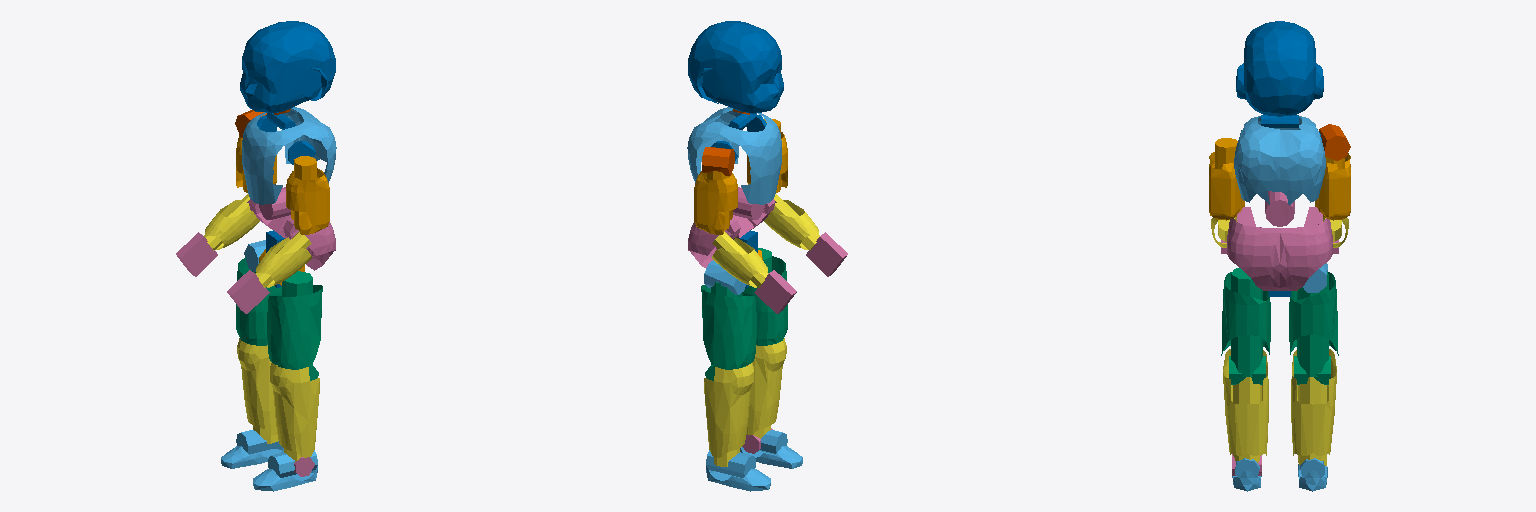
--- Render facts (derived) ---
3 views of the same robot in one strip: view 1: azimuth 30°, elevation 25°; view 2: azimuth 150°, elevation 25°; view 3: azimuth 270°, elevation 25° (orthographic).
Model iCub with 56 links and 55 joints (32 revolute, 23 fixed), rooted at base_link, posed joints at zero except 2 at the middle of their limits (l_elbow = 0.973, r_elbow = 0.973).
Visible links, largest first — view 1: head, l_upper_leg, chest, l_lower_leg, l_upper_arm, r_lower_leg, torso_1, l_forearm, r_forearm, l_foot, r_upper_leg, r_foot (+2 smaller); view 2: head, chest, r_upper_leg, r_lower_leg, l_lower_leg, r_upper_arm, torso_1, r_forearm, l_forearm, r_foot, l_upper_leg, l_foot (+4 smaller); view 3: torso_1, head, chest, l_upper_leg, r_upper_leg, r_lower_leg, l_lower_leg, l_upper_arm, r_upper_arm, r_foot, r_shoulder_2, l_foot.
Boxes of the visible links, x1,y1,x2,y2 form: head: (240,21,335,112); l_upper_leg: (267,271,322,380); chest: (242,107,336,204); l_lower_leg: (270,363,319,461); l_upper_arm: (286,156,329,234); r_lower_leg: (237,338,278,443); torso_1: (247,187,335,270); l_forearm: (255,231,311,287); r_forearm: (204,194,259,250); l_foot: (253,450,317,491); r_upper_leg: (236,258,281,345); r_foot: (221,430,283,468); head: (688,21,783,113); chest: (687,107,781,204); r_upper_leg: (701,282,756,380); r_lower_leg: (704,363,753,466); l_lower_leg: (746,338,786,438); r_upper_arm: (694,171,737,234); torso_1: (688,187,776,267); r_forearm: (712,231,768,287); l_forearm: (764,194,819,250); r_foot: (706,450,770,491); l_upper_leg: (744,248,787,345); l_foot: (740,430,802,468); torso_1: (1227,191,1332,290); head: (1236,21,1323,116); chest: (1234,116,1325,204); l_upper_leg: (1221,268,1270,384); r_upper_leg: (1289,272,1338,384); r_lower_leg: (1291,349,1336,465); l_lower_leg: (1223,349,1268,462); l_upper_arm: (1209,138,1244,220); r_upper_arm: (1315,153,1350,220); r_foot: (1298,458,1327,491); r_shoulder_2: (1319,124,1350,160); l_foot: (1232,458,1261,491).
Bounding box of the posed robot: 0.3134 × 0.2951 × 1.04 m (x, y, z).
Meshes: 28 distinct files referenced, 25 mesh visuals loaded (25 binary STL); not drawn: 3 (reference not matched to a file when rendering).

The robot description file, URDF, robot "iCub":
<robot name="iCub">
    <link name="base_link" />
    <link name="chest">
        <inertial>
            <mass value="4.81" />
            <origin xyz="0.00222898 0.075 -1.18362e-17" rpy="0 -0 0" />
            <inertia ixx="0.07472" ixy="-3.6e-06" ixz="-4.705e-05" iyy="0.08145" iyz="0.004567" izz="0.01306" />
        </inertial>
        <visual>
            <origin xyz="-0.0055 -6.93889e-18 -3.55271e-18" rpy="0 -1.5708 1.5708" />
            <geometry>
                <mesh filename="package://meshes/icub_simple_collision_chest.stl" scale="1 1 1" />
            </geometry>
            <!-- <material name="material.metal">
                <texture />
                <color rgba="0 0 0 1" />
            </material> -->
        </visual>
        <collision>
            <origin xyz="-0.0055 -6.93889e-18 -3.55271e-18" rpy="0 -1.5708 1.5708" />
            <geometry>
                <mesh filename="package://meshes/icub_simple_collision_chest.stl" scale="1 1 1" />
            </geometry>
        </collision>
    </link>
    <link name="chest_skin_frame">
        <inertial>
            <mass value="0" />
            <origin xyz="0 0 0" rpy="0 -0 0" />
            <inertia ixx="0" ixy="0" ixz="0" iyy="0" iyz="0" izz="0" />
        </inertial>
    </link>
    <link name="codyco_balancing_world">
        <inertial>
            <mass value="0" />
            <origin xyz="0 0 0" rpy="0 -0 0" />
            <inertia ixx="0" ixy="0" ixz="0" iyy="0" iyz="0" izz="0" />
        </inertial>
    </link>
    <link name="head">
        <inertial>
            <mass value="1.33687" />
            <origin xyz="0.0185 -0.1108 6.78454e-18" rpy="0 -0 0" />
            <inertia ixx="0" ixy="0" ixz="2.40741e-35" iyy="0" iyz="0" izz="0" />
        </inertial>
        <visual>
            <origin xyz="0.0045 -0.0235 9.42472e-13" rpy="0 1.5708 -1.5708" />
            <geometry>
                <mesh filename="package://meshes/icub_simple_collision_head.stl" scale="1 1 1" />
            </geometry>
            <!-- <material name="material.metal">
                <texture />
                <color rgba="0 0 0 1" />
            </material> -->
        </visual>
        <collision>
            <origin xyz="0.0045 -0.0235 9.42472e-13" rpy="0 1.5708 -1.5708" />
            <geometry>
                <mesh filename="package://meshes/icub_simple_collision_head.stl" scale="1 1 1" />
            </geometry>
        </collision>
    </link>
    <link name="imu_frame">
        <inertial>
            <mass value="0" />
            <origin xyz="0 0 0" rpy="0 -0 0" />
            <inertia ixx="0" ixy="0" ixz="0" iyy="0" iyz="0" izz="0" />
        </inertial>
    </link>
    <link name="l_ankle_1">
        <inertial>
            <mass value="0.746" />
            <origin xyz="-0.0054 0.00163 0.0172" rpy="0 -0 0" />
            <inertia ixx="0.00063323" ixy="-7.081e-06" ixz="4.1421e-05" iyy="0.00068776" iyz="2.0817e-05" izz="0.000313897" />
        </inertial>
        <visual>
            <origin xyz="1.11022e-16 -5.54343e-12 4.45647e-12" rpy="1.5708 1.53106e-11 1.53105e-11" />
            <geometry>
                <mesh filename="package://meshes/icub_simple_collision_l_ankle_1.stl" scale="1 1 1" />
            </geometry>
            <!-- <material name="material.metal">
                <texture />
                <color rgba="0 0 0 1" />
            </material> -->
        </visual>
        <collision>
            <origin xyz="1.11022e-16 -5.54343e-12 4.45647e-12" rpy="1.5708 1.53106e-11 1.53105e-11" />
            <geometry>
                <mesh filename="package://meshes/icub_simple_collision_l_ankle_1.stl" scale="1 1 1" />
            </geometry>
        </collision>
    </link>
    <link name="l_ankle_2">
        <inertial>
            <mass value="0.2675" />
            <origin xyz="0.017 0 0.042" rpy="0 -0 0" />
            <inertia ixx="0" ixy="0" ixz="0" iyy="0" iyz="0" izz="0" />
        </inertial>
    </link>
    <link name="l_elbow_1">
        <inertial>
            <mass value="0.074" />
            <origin xyz="-0.0013 0.00371 -0.00105" rpy="0 -0 0" />
            <inertia ixx="2.8389e-05" ixy="-5.15e-07" ixz="-4.08e-07" iyy="9.244e-06" iyz="-3.71e-07" izz="2.9968e-05" />
        </inertial>
    </link>
    <link name="l_foot">
        <inertial>
            <mass value="0.5935" />
            <origin xyz="0.007069 -0.000613931 -0.0334154" rpy="0 -0 0" />
            <inertia ixx="0.00193893" ixy="-1.3505e-05" ixz="0.0001823" iyy="0.0030191" iyz="-3.30533e-06" izz="0.00162801" />
        </inertial>
        <visual>
            <origin xyz="-0.017 -5.54343e-12 -0.042" rpy="0 1.5708 -2.0414e-11" />
            <geometry>
                <mesh filename="package://meshes/icub_simple_collision_l_foot.stl" scale="1 1 1" />
            </geometry>
            <!-- <material name="material.metal">
                <texture />
                <color rgba="0 0 0 1" />
            </material> -->
        </visual>
        <collision>
            <origin xyz="-0.017 -5.54343e-12 -0.042" rpy="0 1.5708 -2.0414e-11" />
            <geometry>
                <mesh filename="package://meshes/icub_simple_collision_l_foot.stl" scale="1 1 1" />
            </geometry>
        </collision>
    </link>
    <link name="l_foot_dh_frame">
        <inertial>
            <mass value="0" />
            <origin xyz="0 0 0" rpy="0 -0 0" />
            <inertia ixx="0" ixy="0" ixz="0" iyy="0" iyz="0" izz="0" />
        </inertial>
    </link>
    <link name="l_forearm">
        <inertial>
            <mass value="0.525" />
            <origin xyz="0.000347 0.066 0.00476" rpy="0 -0 0" />
            <inertia ixx="0.000765393" ixy="4.337e-06" ixz="2.39e-07" iyy="0.000164578" iyz="1.9381e-05" izz="0.00069806" />
        </inertial>
        <visual>
            <origin xyz="-0.000143922 -1.25974e-12 0.0204334" rpy="0 1.5708 1.5708" />
            <geometry>
                <mesh filename="package://meshes/icub_simple_collision_l_forearm.stl" scale="1 1 1" />
            </geometry>
            <!-- <material name="material.metal">
                <texture />
                <color rgba="0 0 0 1" />
            </material> -->
        </visual>
        <collision>
            <origin xyz="-0.000143922 -1.25974e-12 0.0204334" rpy="0 1.5708 1.5708" />
            <geometry>
                <mesh filename="package://meshes/icub_simple_collision_l_forearm.stl" scale="1 1 1" />
            </geometry>
        </collision>
    </link>
    <link name="l_forearm_dh_frame">
        <inertial>
            <mass value="0" />
            <origin xyz="0 0 0" rpy="0 -0 0" />
            <inertia ixx="0" ixy="0" ixz="0" iyy="0" iyz="0" izz="0" />
        </inertial>
    </link>
    <link name="l_gripper">
        <inertial>
            <mass value="0" />
            <origin xyz="0 0 0" rpy="0 -0 0" />
            <inertia ixx="0" ixy="0" ixz="0" iyy="0" iyz="0" izz="0" />
        </inertial>
    </link>
    <link name="l_hand">
        <inertial>
            <mass value="0.213" />
            <origin xyz="0.07023 -0.00805 -0.007" rpy="0 -0 0" />
            <inertia ixx="0.000157143" ixy="1.278e-05" ixz="4.823e-06" iyy="0.000247995" iyz="-1.8188e-05" izz="0.000380535" />
        </inertial>
        <visual>
            <origin xyz="-1.25973e-12 0.0204334 -0.000143922" rpy="5.10271e-12 -2.64186e-12 1.49622e-11" />
            <geometry>
                <mesh filename="package://meshes/icub_simple_collision_l_hand.stl" scale="1 1 1" />
            </geometry>
            <!-- <material name="material.metal">
                <texture />
                <color rgba="0 0 0 1" />
            </material> -->
        </visual>
        <collision>
            <origin xyz="-1.25973e-12 0.0204334 -0.000143922" rpy="5.10271e-12 -2.64186e-12 1.49622e-11" />
            <geometry>
                <mesh filename="package://meshes/icub_simple_collision_l_hand.stl" scale="1 1 1" />
            </geometry>
        </collision>
    </link>
    <link name="l_hand_dh_frame">
        <inertial>
            <mass value="0" />
            <origin xyz="0 0 0" rpy="0 -0 0" />
            <inertia ixx="0" ixy="0" ixz="0" iyy="0" iyz="0" izz="0" />
        </inertial>
    </link>
    <link name="l_hip_1">
        <inertial>
            <mass value="0.754" />
            <origin xyz="0 -0.0782 0" rpy="0 -0 0" />
            <inertia ixx="0.000471076" ixy="2.059e-06" ixz="1.451e-06" iyy="0.000346478" iyz="1.545e-06" izz="0.000510315" />
        </inertial>
        <visual>
            <origin xyz="0 0 0" rpy="0 1.5708 -1.5708" />
            <geometry>
                <mesh filename="package://meshes/icub_simple_collision_l_hip_1.stl" scale="1 1 1" />
            </geometry>
            <!-- <material name="material.metal">
                <texture />
                <color rgba="0 0 0 1" />
            </material> -->
        </visual>
        <collision>
            <origin xyz="0 0 0" rpy="0 1.5708 -1.5708" />
            <geometry>
                <mesh filename="package://meshes/icub_simple_collision_l_hip_1.stl" scale="1 1 1" />
            </geometry>
        </collision>
    </link>
    <link name="l_hip_2">
        <inertial>
            <mass value="0.526" />
            <origin xyz="0 0 0.03045" rpy="0 -0 0" />
            <inertia ixx="0.000561583" ixy="-7.4e-08" ixz="1.0835e-05" iyy="0.000738049" iyz="-6.2e-08" izz="0.000294119" />
        </inertial>
        <visual>
            <origin xyz="0 0 0" rpy="0 -1.5708 3.14159" />
            <geometry>
                <mesh filename="package://meshes/icub_simple_collision_l_hip_2.stl" scale="1 1 1" />
            </geometry>
            <!-- <material name="material.metal">
                <texture />
                <color rgba="0 0 0 1" />
            </material> -->
        </visual>
        <collision>
            <origin xyz="0 0 0" rpy="0 -1.5708 3.14159" />
            <geometry>
                <mesh filename="package://meshes/icub_simple_collision_l_hip_2.stl" scale="1 1 1" />
            </geometry>
        </collision>
    </link>
    <link name="l_hip_3">
        <inertial>
            <mass value="0" />
            <origin xyz="0 0 0" rpy="0 -0 0" />
            <inertia ixx="0" ixy="0" ixz="0" iyy="0" iyz="0" izz="0" />
        </inertial>
    </link>
    <link name="l_lower_leg">
        <inertial>
            <mass value="1.264" />
            <origin xyz="-0.1071 0.00182 0.00211" rpy="0 -0 0" />
            <inertia ixx="0.00099895" ixy="-0.000185699" ixz="-6.3147e-05" iyy="0.00445054" iyz="7.86e-07" izz="0.00420766" />
        </inertial>
        <visual>
            <origin xyz="5.55112e-17 2.28232e-12 2.2823e-12" rpy="-3.14159 -2.33487e-16 1.5708" />
            <geometry>
                <mesh filename="package://meshes/icub_simple_collision_l_shank.stl" scale="1 1 1" />
            </geometry>
            <!-- <material name="material.metal">
                <texture />
                <color rgba="0 0 0 1" />
            </material> -->
        </visual>
        <collision>
            <origin xyz="5.55112e-17 2.28232e-12 2.2823e-12" rpy="-3.14159 -2.33487e-16 1.5708" />
            <geometry>
                <mesh filename="package://meshes/icub_simple_collision_l_shank.stl" scale="1 1 1" />
            </geometry>
        </collision>
    </link>
    <link name="l_shoulder_1">
        <inertial>
            <mass value="0.189" />
            <origin xyz="-5e-06 0.0187 -0.00119" rpy="0 -0 0" />
            <inertia ixx="5.4421e-05" ixy="9e-09" ixz="0" iyy="9.331e-06" iyz="-1.7e-08" izz="5.4862e-05" />
        </inertial>
        <visual>
            <origin xyz="3.08642e-14 0.109285 -0.00521101" rpy="0 1.5708 -1.5708" />
            <geometry>
                <mesh filename="package://meshes/icub_simple_collision_l_shoulder_1.stl" scale="1 1 1" />
            </geometry>
            <!-- <material name="material.metal">
                <texture />
                <color rgba="0 0 0 1" />
            </material> -->
        </visual>
        <collision>
            <origin xyz="3.08642e-14 0.109285 -0.00521101" rpy="0 1.5708 -1.5708" />
            <geometry>
                <mesh filename="package://meshes/icub_simple_collision_l_shoulder_1.stl" scale="1 1 1" />
            </geometry>
        </collision>
    </link>
    <link name="l_shoulder_2">
        <inertial>
            <mass value="0.179" />
            <origin xyz="9.4e-05 -0.00627 0.0166" rpy="0 -0 0" />
            <inertia ixx="0.0001372" ixy="4.66e-07" ixz="3.65e-07" iyy="8.2927e-05" iyz="-2.0524e-05" izz="9.9274e-05" />
        </inertial>
        <visual>
            <origin xyz="-0.00154529 -0.00521101 -1.11181e-12" rpy="0 1.5708 1.5708" />
            <geometry>
                <mesh filename="package://meshes/icub_simple_collision_l_shoulder_2.stl" scale="1 1 1" />
            </geometry>
            <!-- <material name="material.metal">
                <texture />
                <color rgba="0 0 0 1" />
            </material> -->
        </visual>
        <collision>
            <origin xyz="-0.00154529 -0.00521101 -1.11181e-12" rpy="0 1.5708 1.5708" />
            <geometry>
                <mesh filename="package://meshes/icub_simple_collision_l_shoulder_2.stl" scale="1 1 1" />
            </geometry>
        </collision>
    </link>
    <link name="l_shoulder_3">
        <inertial>
            <mass value="0.156157" />
            <origin xyz="0.00559398 9.77357e-05 0.0501346" rpy="0 -0 0" />
            <inertia ixx="4.84118e-05" ixy="-5.662e-08" ixz="-4.3618e-06" iyy="5.79067e-05" iyz="-7.42844e-07" izz="6.7103e-05" />
        </inertial>
    </link>
    <link name="l_sole">
        <inertial>
            <mass value="0" />
            <origin xyz="0 0 0" rpy="0 -0 0" />
            <inertia ixx="0" ixy="0" ixz="0" iyy="0" iyz="0" izz="0" />
        </inertial>
    </link>
    <link name="l_upper_arm">
        <inertial>
            <mass value="0.727843" />
            <origin xyz="-0.000156 -9.87e-05 0.0298" rpy="0 -0 0" />
            <inertia ixx="0.000408" ixy="-1.08e-06" ixz="-2.29e-06" iyy="0.00038" iyz="3.57e-06" izz="0.00026" />
        </inertial>
        <visual>
            <origin xyz="-0.0204334 0.000143922 -0.068" rpy="1.15274e-11 4.92958e-12 -1.309" />
            <geometry>
                <mesh filename="package://meshes/icub_simple_collision_l_arm.stl" scale="1 1 1" />
            </geometry>
            <!-- <material name="material.metal">
                <texture />
                <color rgba="0 0 0 1" />
            </material> -->
        </visual>
        <collision>
            <origin xyz="-0.0204334 0.000143922 -0.068" rpy="1.15274e-11 4.92958e-12 -1.309" />
            <geometry>
                <mesh filename="package://meshes/icub_simple_collision_l_arm.stl" scale="1 1 1" />
            </geometry>
        </collision>
    </link>
    <link name="l_upper_arm_dh_frame">
        <inertial>
            <mass value="0" />
            <origin xyz="0 0 0" rpy="0 -0 0" />
            <inertia ixx="0" ixy="0" ixz="0" iyy="0" iyz="0" izz="0" />
        </inertial>
    </link>
    <link name="l_upper_leg">
        <inertial>
            <mass value="2.175" />
            <origin xyz="0.00144 -0.15943 -0.00039" rpy="0 -0 0" />
            <inertia ixx="0.00759107" ixy="-6.726e-05" ixz="2.267e-06" iyy="0.00142302" iyz="3.63726e-05" izz="0.00755385" />
        </inertial>
        <visual>
            <origin xyz="0 0 0" rpy="0 1.5708 1.5708" />
            <geometry>
                <mesh filename="package://meshes/icub_simple_collision_l_thigh.stl" scale="1 1 1" />
            </geometry>
            <!-- <material name="material.metal">
                <texture />
                <color rgba="0 0 0 1" />
            </material> -->
        </visual>
        <collision>
            <origin xyz="0 0 0" rpy="0 1.5708 1.5708" />
            <geometry>
                <mesh filename="package://meshes/icub_simple_collision_l_thigh.stl" scale="1 1 1" />
            </geometry>
        </collision>
    </link>
    <link name="l_wrist_1">
        <inertial>
            <mass value="0" />
            <origin xyz="0 0 0" rpy="0 -0 0" />
            <inertia ixx="0" ixy="0" ixz="0" iyy="0" iyz="0" izz="0" />
        </inertial>
    </link>
    <link name="neck_1">
        <inertial>
            <mass value="0" />
            <origin xyz="0 0 0" rpy="0 -0 0" />
            <inertia ixx="0" ixy="0" ixz="0" iyy="0" iyz="0" izz="0" />
        </inertial>
        <visual>
            <origin xyz="-5.55112e-17 9.62889e-13 -0.0055" rpy="0 -1.5708 -1.5708" />
            <geometry>
                <mesh filename="package://meshes/icub_simple_collision_neck_1.stl" scale="1 1 1" />
            </geometry>
            <!-- <material name="material.metal">
                <texture />
                <color rgba="0 0 0 1" />
            </material> -->
        </visual>
        <collision>
            <origin xyz="-5.55112e-17 9.62889e-13 -0.0055" rpy="0 -1.5708 -1.5708" />
            <geometry>
                <mesh filename="package://meshes/icub_simple_collision_neck_1.stl" scale="1 1 1" />
            </geometry>
        </collision>
    </link>
    <link name="neck_2">
        <inertial>
            <mass value="0" />
            <origin xyz="0 0 0" rpy="0 -0 0" />
            <inertia ixx="0" ixy="0" ixz="0" iyy="0" iyz="0" izz="0" />
        </inertial>
        <visual>
            <origin xyz="-9.62885e-13 0.0055 0.0235" rpy="0 -1.5708 1.5708" />
            <geometry>
                <mesh filename="package://meshes/icub_simple_collision_neck_2.stl" scale="1 1 1" />
            </geometry>
            <!-- <material name="material.metal">
                <texture />
                <color rgba="0 0 0 1" />
            </material> -->
        </visual>
        <collision>
            <origin xyz="-9.62885e-13 0.0055 0.0235" rpy="0 -1.5708 1.5708" />
            <geometry>
                <mesh filename="package://meshes/icub_simple_collision_neck_2.stl" scale="1 1 1" />
            </geometry>
        </collision>
    </link>
    <link name="r_ankle_1">
        <inertial>
            <mass value="0.746" />
            <origin xyz="-0.0054 0.00163 -0.0172" rpy="0 -0 0" />
            <inertia ixx="2.71051e-20" ixy="-1.69407e-21" ixz="1.35525e-20" iyy="5.42101e-20" iyz="3.38813e-21" izz="1.35525e-20" />
        </inertial>
        <visual>
            <origin xyz="1.11022e-16 -1.08717e-12 -4.45647e-12" rpy="-1.5708 -1.53106e-11 5.10376e-12" />
            <geometry>
                <mesh filename="package://meshes/icub_simple_collision_r_ankle_1.stl" scale="1 1 1" />
            </geometry>
            <!-- <material name="material.metal">
                <texture />
                <color rgba="0 0 0 1" />
            </material> -->
        </visual>
        <collision>
            <origin xyz="1.11022e-16 -1.08717e-12 -4.45647e-12" rpy="-1.5708 -1.53106e-11 5.10376e-12" />
            <geometry>
                <mesh filename="package://meshes/icub_simple_collision_r_ankle_1.stl" scale="1 1 1" />
            </geometry>
        </collision>
    </link>
    <link name="r_ankle_2">
        <inertial>
            <mass value="0.2675" />
            <origin xyz="0.017 0 0.042" rpy="0 -0 0" />
            <inertia ixx="0" ixy="0" ixz="0" iyy="0" iyz="0" izz="0" />
        </inertial>
    </link>
    <link name="r_elbow_1">
        <inertial>
            <mass value="0.074" />
            <origin xyz="0.0013 -0.00371 0.00105" rpy="0 -0 0" />
            <inertia ixx="2.84e-05" ixy="-5.02e-07" ixz="-3.99e-07" iyy="9.24e-06" iyz="-3.71e-07" izz="2.99e-05" />
        </inertial>
    </link>
    <link name="r_foot">
        <inertial>
            <mass value="0.5935" />
            <origin xyz="0.007069 0.000613931 -0.0334154" rpy="0 -0 0" />
            <inertia ixx="0.00193893" ixy="1.3505e-05" ixz="0.0001823" iyy="0.0030191" iyz="3.30551e-06" izz="0.00162801" />
        </inertial>
        <visual>
            <origin xyz="-0.017 1.08717e-12 -0.042" rpy="0 1.5708 3.14159" />
            <geometry>
                <mesh filename="package://meshes/icub_simple_collision_r_foot.stl" scale="1 1 1" />
            </geometry>
            <!-- <material name="material.metal">
                <texture />
                <color rgba="0 0 0 1" />
            </material> -->
        </visual>
        <collision>
            <origin xyz="-0.017 1.08717e-12 -0.042" rpy="0 1.5708 3.14159" />
            <geometry>
                <mesh filename="package://meshes/icub_simple_collision_r_foot.stl" scale="1 1 1" />
            </geometry>
        </collision>
    </link>
    <link name="r_foot_dh_frame">
        <inertial>
            <mass value="0" />
            <origin xyz="0 0 0" rpy="0 -0 0" />
            <inertia ixx="0" ixy="0" ixz="0" iyy="0" iyz="0" izz="0" />
        </inertial>
    </link>
    <link name="r_forearm">
        <inertial>
            <mass value="0.525" />
            <origin xyz="-0.000347 -0.066 -0.00476" rpy="0 -0 0" />
            <inertia ixx="0.000766" ixy="5.66e-06" ixz="1.4e-06" iyy="0.000164" iyz="1.82e-05" izz="0.000699" />
        </inertial>
        <visual>
            <origin xyz="0.000143922 -1.07214e-12 -0.0204334" rpy="0 1.5708 1.5708" />
            <geometry>
                <mesh filename="package://meshes/icub_simple_collision_r_forearm.stl" scale="1 1 1" />
            </geometry>
            <!-- <material name="material.metal">
                <texture />
                <color rgba="0 0 0 1" />
            </material> -->
        </visual>
        <collision>
            <origin xyz="0.000143922 -1.07214e-12 -0.0204334" rpy="0 1.5708 1.5708" />
            <geometry>
                <mesh filename="package://meshes/icub_simple_collision_r_forearm.stl" scale="1 1 1" />
            </geometry>
        </collision>
    </link>
    <link name="r_forearm_dh_frame">
        <inertial>
            <mass value="0" />
            <origin xyz="0 0 0" rpy="0 -0 0" />
            <inertia ixx="0" ixy="0" ixz="0" iyy="0" iyz="0" izz="0" />
        </inertial>
    </link>
    <link name="r_gripper">
        <inertial>
            <mass value="0" />
            <origin xyz="0 0 0" rpy="0 -0 0" />
            <inertia ixx="0" ixy="0" ixz="0" iyy="0" iyz="0" izz="0" />
        </inertial>
    </link>
    <link name="r_hand">
        <inertial>
            <mass value="0.213" />
            <origin xyz="0.07023 -0.00805 0.007" rpy="0 -0 0" />
            <inertia ixx="0.000154" ixy="1.26e-05" ixz="-6.08e-06" iyy="0.00025" iyz="1.76e-05" izz="0.000378" />
        </inertial>
        <visual>
            <origin xyz="1.0721e-12 0.0204334 0.000143922" rpy="1.53098e-11 2.00656e-11 -3.14159" />
            <geometry>
                <mesh filename="package://meshes/icub_simple_collision_r_hand.stl" scale="1 1 1" />
            </geometry>
            <!-- <material name="material.metal">
                <texture />
                <color rgba="0 0 0 1" />
            </material> -->
        </visual>
        <collision>
            <origin xyz="1.0721e-12 0.0204334 0.000143922" rpy="1.53098e-11 2.00656e-11 -3.14159" />
            <geometry>
                <mesh filename="package://meshes/icub_simple_collision_r_hand.stl" scale="1 1 1" />
            </geometry>
        </collision>
    </link>
    <link name="r_hand_dh_frame">
        <inertial>
            <mass value="0" />
            <origin xyz="0 0 0" rpy="0 -0 0" />
            <inertia ixx="0" ixy="0" ixz="0" iyy="0" iyz="0" izz="0" />
        </inertial>
    </link>
    <link name="r_hip_1">
        <inertial>
            <mass value="0.754" />
            <origin xyz="0 -0.0782 0" rpy="0 -0 0" />
            <inertia ixx="0" ixy="0" ixz="0" iyy="0" iyz="0" izz="0" />
        </inertial>
        <visual>
            <origin xyz="0 0 0" rpy="0 -1.5708 -1.5708" />
            <geometry>
                <mesh filename="package://meshes/icub_simple_collision_r_hip_1.stl" scale="1 1 1" />
            </geometry>
            <!-- <material name="material.metal">
                <texture />
                <color rgba="0 0 0 1" />
            </material> -->
        </visual>
        <collision>
            <origin xyz="0 0 0" rpy="0 -1.5708 -1.5708" />
            <geometry>
                <mesh filename="package://meshes/icub_simple_collision_r_hip_1.stl" scale="1 1 1" />
            </geometry>
        </collision>
    </link>
    <link name="r_hip_2">
        <inertial>
            <mass value="0.526" />
            <origin xyz="0 0 0.03045" rpy="0 -0 0" />
            <inertia ixx="-5.42101e-20" ixy="0" ixz="0" iyy="-5.42101e-20" iyz="0" izz="0" />
        </inertial>
        <visual>
            <origin xyz="0 0 0" rpy="0 -1.5708 1.02066e-11" />
            <geometry>
                <mesh filename="package://meshes/icub_simple_collision_r_hip_2.stl" scale="1 1 1" />
            </geometry>
            <!-- <material name="material.metal">
                <texture />
                <color rgba="0 0 0 1" />
            </material> -->
        </visual>
        <collision>
            <origin xyz="0 0 0" rpy="0 -1.5708 1.02066e-11" />
            <geometry>
                <mesh filename="package://meshes/icub_simple_collision_r_hip_2.stl" scale="1 1 1" />
            </geometry>
        </collision>
    </link>
    <link name="r_hip_3">
        <inertial>
            <mass value="0" />
            <origin xyz="0 0 0" rpy="0 -0 0" />
            <inertia ixx="0" ixy="0" ixz="0" iyy="0" iyz="0" izz="0" />
        </inertial>
    </link>
    <link name="r_lower_leg">
        <inertial>
            <mass value="1.264" />
            <origin xyz="-0.1071 0.00182 -0.00211" rpy="0 -0 0" />
            <inertia ixx="-6.2511e-19" ixy="5.42101e-20" ixz="-5.42101e-20" iyy="-1.73472e-18" iyz="8.47033e-22" izz="-1.73472e-18" />
        </inertial>
        <visual>
            <origin xyz="5.55112e-17 2.28232e-12 -8.32667e-17" rpy="3.14159 -1.14424e-17 1.5708" />
            <geometry>
                <mesh filename="package://meshes/icub_simple_collision_r_shank.stl" scale="1 1 1" />
            </geometry>
            <!-- <material name="material.metal">
                <texture />
                <color rgba="0 0 0 1" />
            </material> -->
        </visual>
        <collision>
            <origin xyz="5.55112e-17 2.28232e-12 -8.32667e-17" rpy="3.14159 -1.14424e-17 1.5708" />
            <geometry>
                <mesh filename="package://meshes/icub_simple_collision_r_shank.stl" scale="1 1 1" />
            </geometry>
        </collision>
    </link>
    <link name="r_shoulder_1">
        <inertial>
            <mass value="0.189" />
            <origin xyz="5e-06 0.0187 0.00119" rpy="0 -0 0" />
            <inertia ixx="0.000123" ixy="2.1e-08" ixz="-1e-09" iyy="2.44e-05" iyz="4.22e-06" izz="0.000113" />
        </inertial>
        <visual>
            <origin xyz="-3.08642e-14 0.109285 0.00521101" rpy="0 1.5708 1.5708" />
            <geometry>
                <mesh filename="package://meshes/icub_simple_collision_r_shoulder_1.stl" scale="1 1 1" />
            </geometry>
            <!-- <material name="material.metal">
                <texture />
                <color rgba="0 0 0 1" />
            </material> -->
        </visual>
        <collision>
            <origin xyz="-3.08642e-14 0.109285 0.00521101" rpy="0 1.5708 1.5708" />
            <geometry>
                <mesh filename="package://meshes/icub_simple_collision_r_shoulder_1.stl" scale="1 1 1" />
            </geometry>
        </collision>
    </link>
    <link name="r_shoulder_2">
        <inertial>
            <mass value="0.179" />
            <origin xyz="-9.4e-05 -0.00627 -0.0166" rpy="0 -0 0" />
            <inertia ixx="0.000137" ixy="-4.53e-07" ixz="2.03e-07" iyy="8.3e-05" iyz="2.07e-05" izz="9.93e-05" />
        </inertial>
        <visual>
            <origin xyz="-0.00154529 -0.00521101 -1.11181e-12" rpy="0 -1.5708 1.5708" />
            <geometry>
                <mesh filename="package://meshes/icub_simple_collision_r_shoulder_2.stl" scale="1 1 1" />
            </geometry>
            <!-- <material name="material.metal">
                <texture />
                <color rgba="0 0 0 1" />
            </material> -->
        </visual>
        <collision>
            <origin xyz="-0.00154529 -0.00521101 -1.11181e-12" rpy="0 -1.5708 1.5708" />
            <geometry>
                <mesh filename="package://meshes/icub_simple_collision_r_shoulder_2.stl" scale="1 1 1" />
            </geometry>
        </collision>
    </link>
    <link name="r_shoulder_3">
        <inertial>
            <mass value="0.155" />
            <origin xyz="0.00553932 -2.47652e-05 0.0493895" rpy="0 -0 0" />
            <inertia ixx="3.44122e-05" ixy="3.56977e-07" ixz="-3.95372e-06" iyy="4.33544e-05" iyz="-6.5128e-06" izz="6.49393e-05" />
        </inertial>
    </link>
    <link name="r_sole">
        <inertial>
            <mass value="0" />
            <origin xyz="0 0 0" rpy="0 -0 0" />
            <inertia ixx="0" ixy="0" ixz="0" iyy="0" iyz="0" izz="0" />
        </inertial>
    </link>
    <link name="r_upper_arm">
        <inertial>
            <mass value="0.729" />
            <origin xyz="-0.00015906 8.28733e-05 0.0298828" rpy="0 -0 0" />
            <inertia ixx="0.000408" ixy="-1.08e-06" ixz="-2.29e-06" iyy="0.00038" iyz="3.57e-06" izz="0.00026" />
        </inertial>
        <visual>
            <origin xyz="-0.0204334 -0.000143922 -0.068" rpy="-3.14159 -1.51363e-11 1.309" />
            <geometry>
                <mesh filename="package://meshes/icub_simple_collision_r_arm.stl" scale="1 1 1" />
            </geometry>
            <!-- <material name="material.metal">
                <texture />
                <color rgba="0 0 0 1" />
            </material> -->
        </visual>
        <collision>
            <origin xyz="-0.0204334 -0.000143922 -0.068" rpy="-3.14159 -1.51363e-11 1.309" />
            <geometry>
                <mesh filename="package://meshes/icub_simple_collision_r_arm.stl" scale="1 1 1" />
            </geometry>
        </collision>
    </link>
    <link name="r_upper_arm_dh_frame">
        <inertial>
            <mass value="0" />
            <origin xyz="0 0 0" rpy="0 -0 0" />
            <inertia ixx="0" ixy="0" ixz="0" iyy="0" iyz="0" izz="0" />
        </inertial>
    </link>
    <link name="r_upper_leg">
        <inertial>
            <mass value="2.175" />
            <origin xyz="0.00144 -0.15943 0.00039" rpy="0 -0 0" />
            <inertia ixx="0" ixy="0" ixz="0" iyy="4.07592e-18" iyz="-2.71051e-20" izz="0" />
        </inertial>
        <visual>
            <origin xyz="0 0 0" rpy="0 -1.5708 1.5708" />
            <geometry>
                <mesh filename="package://meshes/icub_simple_collision_r_thigh.stl" scale="1 1 1" />
            </geometry>
            <!-- <material name="material.metal">
                <texture />
                <color rgba="0 0 0 1" />
            </material> -->
        </visual>
        <collision>
            <origin xyz="0 0 0" rpy="0 -1.5708 1.5708" />
            <geometry>
                <mesh filename="package://meshes/icub_simple_collision_r_thigh.stl" scale="1 1 1" />
            </geometry>
        </collision>
    </link>
    <link name="r_wrist_1">
        <inertial>
            <mass value="0" />
            <origin xyz="0 0 0" rpy="0 -0 0" />
            <inertia ixx="0" ixy="0" ixz="0" iyy="0" iyz="0" izz="0" />
        </inertial>
    </link>
    <link name="root_link">
        <inertial>
            <mass value="4.72" />
            <origin xyz="0 0 0" rpy="0 -0 0" />
            <inertia ixx="0" ixy="0" ixz="0" iyy="0" iyz="0" izz="0" />
        </inertial>
        <visual>
            <origin xyz="0 0 0" rpy="0 -0 0" />
            <geometry>
                <mesh filename="package://meshes/icub_simple_collision_root_link.stl" scale="1 1 1" />
            </geometry>
            <!-- <material name="material.metal">
                <texture />
                <color rgba="0 0 0 1" />
            </material> -->
        </visual>
        <collision>
            <origin xyz="0 0 0" rpy="0 -0 0" />
            <geometry>
                <mesh filename="package://meshes/icub_simple_collision_root_link.stl" scale="1 1 1" />
            </geometry>
        </collision>
    </link>
    <link name="torso">
        <inertial>
            <mass value="0" />
            <origin xyz="0 0 0" rpy="0 -0 0" />
            <inertia ixx="0" ixy="0" ixz="0" iyy="0" iyz="0" izz="0" />
        </inertial>
    </link>
    <link name="torso_1">
        <inertial>
            <mass value="0" />
            <origin xyz="0 0 0" rpy="0 -0 0" />
            <inertia ixx="0.0004544" ixy="-4.263e-05" ixz="-3.889e-08" iyy="0.001141" iyz="0" izz="0.001236" />
        </inertial>
        <visual>
            <origin xyz="0 0 0" rpy="-1.5708 5.10314e-12 1.11022e-16" />
            <geometry>
                <mesh filename="package://meshes/icub_simple_collision_lap_belt_1.stl" scale="1 1 1" />
            </geometry>
            <!-- <material name="material.metal">
                <texture />
                <color rgba="0 0 0 1" />
            </material> -->
        </visual>
        <collision>
            <origin xyz="0 0 0" rpy="-1.5708 5.10314e-12 1.11022e-16" />
            <geometry>
                <mesh filename="package://meshes/icub_simple_collision_lap_belt_1.stl" scale="1 1 1" />
            </geometry>
        </collision>
    </link>
    <link name="torso_2">
        <inertial>
            <mass value="0" />
            <origin xyz="0 0 0" rpy="0 -0 0" />
            <inertia ixx="0.0005308" ixy="-1.923e-06" ixz="5.095e-05" iyy="0.002031" iyz="-3.849e-07" izz="0.001803" />
        </inertial>
    </link>
    <joint name="torso_yaw" type="revolute">
        <origin xyz="-7.46298e-34 -0.0055 0" rpy="-1.5708 -0 -1.5708" />
        <axis xyz="0 -1 6.12323e-17" />
        <parent link="torso_2" />
        <child link="chest" />
        <dynamics damping="1" friction="0" />
        <limit effort="80" velocity="100" lower="-1.02974" upper="1.02974" />
    </joint>
    <joint name="chest_skin_frame_fixed_joint" type="fixed">
        <origin xyz="0.00231 0.1933 -1.18362e-17" rpy="-1.8747e-33 5.77686e-66 6.16298e-33" />
        <axis xyz="0 0 0" />
        <parent link="chest" />
        <child link="chest_skin_frame" />
    </joint>
    <joint name="codyco_balancing_world_fixed_joint" type="fixed">
        <origin xyz="-0.0353 -7.60894e-35 -0.001" rpy="3.14159 -0 0" />
        <axis xyz="0 0 0" />
        <parent link="l_foot" />
        <child link="codyco_balancing_world" />
    </joint>
    <joint name="neck_yaw" type="revolute">
        <origin xyz="-5.77779e-34 0 0" rpy="-1.5708 -0 1.5708" />
        <axis xyz="0 -1 6.12323e-17" />
        <parent link="neck_2" />
        <child link="head" />
        <dynamics damping="1" friction="0" />
        <limit effort="20" velocity="100" lower="-0.959931" upper="0.959931" />
    </joint>
    <joint name="imu_frame_fixed_joint" type="fixed">
        <origin xyz="0.0185 -0.1108 0.0066" rpy="1.5708 -0 0" />
        <axis xyz="0 0 0" />
        <parent link="head" />
        <child link="imu_frame" />
    </joint>
    <joint name="l_ankle_pitch" type="revolute">
        <origin xyz="-0.213 0 0" rpy="-1.5708 0 0" />
        <axis xyz="0 -1 6.12323e-17" />
        <parent link="l_lower_leg" />
        <child link="l_ankle_1" />
        <dynamics damping="1" friction="0" />
        <limit effort="24" velocity="100" lower="-0.733038" upper="0.366519" />
    </joint>
    <joint name="l_ankle_roll" type="revolute">
        <origin xyz="0 0 0" rpy="0 -1.5708 0" />
        <axis xyz="1 0 0" />
        <parent link="l_ankle_1" />
        <child link="l_ankle_2" />
        <dynamics damping="1" friction="0" />
        <limit effort="11" velocity="100" lower="-0.418879" upper="0.418879" />
    </joint>
    <joint name="l_elbow" type="revolute">
        <origin xyz="0 0 0.08428" rpy="-6.12323e-17 0 0" />
        <axis xyz="0 1 6.12323e-17" />
        <parent link="l_upper_arm" />
        <child link="l_elbow_1" />
        <dynamics damping="1" friction="0" />
        <limit effort="20" velocity="100" lower="0.0959931" upper="1.85005" />
    </joint>
    <joint name="l_foot_ft_sensor" type="fixed">
        <origin xyz="0.017 0 0.042" rpy="0 -0 0" />
        <axis xyz="0 0 0" />
        <parent link="l_ankle_2" />
        <child link="l_foot" />
    </joint>
    <joint name="l_foot_dh_frame_fixed_joint" type="fixed">
        <origin xyz="-0.0353 0 -0.001" rpy="0 1.5708 -0" />
        <axis xyz="0 0 0" />
        <parent link="l_foot" />
        <child link="l_foot_dh_frame" />
    </joint>
    <joint name="l_wrist_prosup" type="revolute">
        <origin xyz="-0.015 0 0" rpy="1.5708 -0 -1.5708" />
        <axis xyz="0 1 6.12323e-17" />
        <parent link="l_elbow_1" />
        <child link="l_forearm" />
        <dynamics damping="1" friction="0" />
        <limit effort="0.45" velocity="100" lower="-0.872665" upper="0.872665" />
    </joint>
    <joint name="l_forearm_dh_frame_fixed_joint" type="fixed">
        <origin xyz="0 0.1373 8.4072e-18" rpy="0 -0 0" />
        <axis xyz="0 0 0" />
        <parent link="l_forearm" />
        <child link="l_forearm_dh_frame" />
    </joint>
    <joint name="l_gripper_joint" type="fixed">
        <origin xyz="0.0625 0 -0.016" rpy="0 -0 0" />
        <axis xyz="0 0 0" />
        <parent link="l_hand" />
        <child link="l_gripper" />
    </joint>
    <joint name="l_wrist_yaw" type="revolute">
        <origin xyz="0 0 0" rpy="0 -0 0" />
        <axis xyz="0 0 1" />
        <parent link="l_wrist_1" />
        <child link="l_hand" />
        <dynamics damping="1" friction="0" />
        <limit effort="0.65" velocity="100" lower="-0.436332" upper="0.436332" />
    </joint>
    <joint name="l_hand_dh_frame_fixed_joint" type="fixed">
        <origin xyz="0.0625 0 -0.016" rpy="0 -0 0" />
        <axis xyz="0 0 0" />
        <parent link="l_hand" />
        <child link="l_hand_dh_frame" />
    </joint>
    <joint name="l_hip_pitch" type="revolute">
        <origin xyz="0 -0.0681 -0.1199" rpy="0 1.5708 -3.14159" />
        <axis xyz="0 -1 6.12323e-17" />
        <parent link="root_link" />
        <child link="l_hip_1" />
        <dynamics damping="1" friction="0" />
        <limit effort="84" velocity="100" lower="-0.767945" upper="2.30383" />
    </joint>
    <joint name="l_hip_roll" type="revolute">
        <origin xyz="0 0 0" rpy="0 -1.5708 3.14159" />
        <axis xyz="1 0 -6.12323e-17" />
        <parent link="l_hip_1" />
        <child link="l_hip_2" />
        <dynamics damping="1" friction="0" />
        <limit effort="84" velocity="100" lower="-2.07694" upper="0.296706" />
    </joint>
    <joint name="l_leg_ft_sensor" type="fixed">
        <origin xyz="0 0 0.0665" rpy="0 -0 0" />
        <axis xyz="0 0 0" />
        <parent link="l_hip_2" />
        <child link="l_hip_3" />
    </joint>
    <joint name="l_knee" type="revolute">
        <origin xyz="0 -0.2236 -1.36916e-17" rpy="3.14159 -1.2326e-32 1.5708" />
        <axis xyz="0 1.22465e-16 -1" />
        <parent link="l_upper_leg" />
        <child link="l_lower_leg" />
        <dynamics damping="1" friction="0" />
        <limit effort="30" velocity="100" lower="-2.18166" upper="0.401426" />
    </joint>
    <joint name="l_shoulder_pitch" type="revolute">
        <origin xyz="0.00525 0.1433 -0.11026" rpy="1.309 5.55112e-17 1.5708" />
        <axis xyz="0 -1 5.55112e-17" />
        <parent link="chest" />
        <child link="l_shoulder_1" />
        <dynamics damping="1" friction="0" />
        <limit effort="84" velocity="100" lower="-1.65806" upper="0.0872665" />
    </joint>
    <joint name="l_shoulder_roll" type="revolute">
        <origin xyz="0 0 0" rpy="1.5708 -0 -1.5708" />
        <axis xyz="0 1 6.12323e-17" />
        <parent link="l_shoulder_1" />
        <child link="l_shoulder_2" />
        <dynamics damping="1" friction="0" />
        <limit effort="84" velocity="100" lower="0" upper="2.80649" />
    </joint>
    <joint name="l_shoulder_yaw" type="revolute">
        <origin xyz="4.33681e-19 1.73472e-18 0" rpy="6.12323e-17 -0 1.309" />
        <axis xyz="0 6.12323e-17 1" />
        <parent link="l_shoulder_2" />
        <child link="l_shoulder_3" />
        <dynamics damping="1" friction="0" />
        <limit effort="34" velocity="100" lower="-0.645772" upper="1.74533" />
    </joint>
    <joint name="l_sole_fixed_joint" type="fixed">
        <origin xyz="-0.0353 -7.60894e-35 -0.001" rpy="3.14159 -0 0" />
        <axis xyz="0 0 0" />
        <parent link="l_foot" />
        <child link="l_sole" />
    </joint>
    <joint name="l_arm_ft_sensor" type="fixed">
        <origin xyz="0.015 9.36797e-18 0.068" rpy="0 -0 0" />
        <axis xyz="0 0 0" />
        <parent link="l_shoulder_3" />
        <child link="l_upper_arm" />
    </joint>
    <joint name="l_upper_arm_dh_frame_fixed_joint" type="fixed">
        <origin xyz="0 0 0.08428" rpy="-1.5708 0 0" />
        <axis xyz="0 0 0" />
        <parent link="l_upper_arm" />
        <child link="l_upper_arm_dh_frame" />
    </joint>
    <joint name="l_hip_yaw" type="revolute">
        <origin xyz="0 0 -0.0665" rpy="-1.5708 -6.16298e-33 -6.12323e-17" />
        <axis xyz="0 1 6.12323e-17" />
        <parent link="l_hip_3" />
        <child link="l_upper_leg" />
        <dynamics damping="1" friction="0" />
        <limit effort="40" velocity="100" lower="-1.37881" upper="1.37881" />
    </joint>
    <joint name="l_wrist_pitch" type="revolute">
        <origin xyz="0 0.1373 8.4072e-18" rpy="1.5708 -0 1.5708" />
        <axis xyz="0 1 6.12323e-17" />
        <parent link="l_forearm" />
        <child link="l_wrist_1" />
        <dynamics damping="1" friction="0" />
        <limit effort="0.65" velocity="100" lower="-1.13446" upper="0.174533" />
    </joint>
    <joint name="neck_pitch" type="revolute">
        <origin xyz="0.00231 0.1933 -1.18362e-17" rpy="1.5708 -0 1.5708" />
        <axis xyz="0 1 6.12323e-17" />
        <parent link="chest" />
        <child link="neck_1" />
        <dynamics damping="1" friction="0" />
        <limit effort="20" velocity="100" lower="-0.698132" upper="0.523599" />
    </joint>
    <joint name="neck_roll" type="revolute">
        <origin xyz="0.0095 0 0" rpy="-1.5708 -0 -1.5708" />
        <axis xyz="0 -1 6.12323e-17" />
        <parent link="neck_1" />
        <child link="neck_2" />
        <dynamics damping="1" friction="0" />
        <limit effort="20" velocity="100" lower="-1.22173" upper="1.0472" />
    </joint>
    <joint name="r_ankle_pitch" type="revolute">
        <origin xyz="-0.213 0 0" rpy="1.5708 -0 0" />
        <axis xyz="0 1 6.12323e-17" />
        <parent link="r_lower_leg" />
        <child link="r_ankle_1" />
        <dynamics damping="1" friction="0" />
        <limit effort="24" velocity="100" lower="-0.733038" upper="0.366519" />
    </joint>
    <joint name="r_ankle_roll" type="revolute">
        <origin xyz="0 0 0" rpy="0 1.5708 3.14159" />
        <axis xyz="-1 1.22465e-16 0" />
        <parent link="r_ankle_1" />
        <child link="r_ankle_2" />
        <dynamics damping="1" friction="0" />
        <limit effort="11" velocity="100" lower="-0.418879" upper="0.418879" />
    </joint>
    <joint name="r_elbow" type="revolute">
        <origin xyz="0 0 0.08428" rpy="3.14159 -0 3.14159" />
        <axis xyz="0 1 6.12323e-17" />
        <parent link="r_upper_arm" />
        <child link="r_elbow_1" />
        <dynamics damping="1" friction="0" />
        <limit effort="20" velocity="100" lower="0.0959931" upper="1.85005" />
    </joint>
    <joint name="r_foot_ft_sensor" type="fixed">
        <origin xyz="0.017 0 0.042" rpy="0 -0 0" />
        <axis xyz="0 0 0" />
        <parent link="r_ankle_2" />
        <child link="r_foot" />
    </joint>
    <joint name="r_foot_dh_frame_fixed_joint" type="fixed">
        <origin xyz="-0.0353 0 -0.001" rpy="0 1.5708 -0" />
        <axis xyz="0 0 0" />
        <parent link="r_foot" />
        <child link="r_foot_dh_frame" />
    </joint>
    <joint name="r_wrist_prosup" type="revolute">
        <origin xyz="0.015 0 0" rpy="1.5708 -0 -1.5708" />
        <axis xyz="0 1 6.12323e-17" />
        <parent link="r_elbow_1" />
        <child link="r_forearm" />
        <dynamics damping="1" friction="0" />
        <limit effort="0.45" velocity="100" lower="-0.872665" upper="0.872665" />
    </joint>
    <joint name="r_forearm_dh_frame_fixed_joint" type="fixed">
        <origin xyz="0 -0.1373 -8.4072e-18" rpy="0 -0 0" />
        <axis xyz="0 0 0" />
        <parent link="r_forearm" />
        <child link="r_forearm_dh_frame" />
    </joint>
    <joint name="r_gripper_joint" type="fixed">
        <origin xyz="0.0625 0 0.016" rpy="0 -0 0" />
        <axis xyz="0 0 0" />
        <parent link="r_hand" />
        <child link="r_gripper" />
    </joint>
    <joint name="r_wrist_yaw" type="revolute">
        <origin xyz="0 0 0" rpy="0 -0 3.14159" />
        <axis xyz="0 0 1" />
        <parent link="r_wrist_1" />
        <child link="r_hand" />
        <dynamics damping="1" friction="0" />
        <limit effort="0.65" velocity="100" lower="-0.436332" upper="0.436332" />
    </joint>
    <joint name="r_hand_dh_frame_fixed_joint" type="fixed">
        <origin xyz="0.0625 0 0.016" rpy="0 -0 0" />
        <axis xyz="0 0 0" />
        <parent link="r_hand" />
        <child link="r_hand_dh_frame" />
    </joint>
    <joint name="r_hip_pitch" type="revolute">
        <origin xyz="0 0.0681 -0.1199" rpy="0 1.5708 6.12323e-17" />
        <axis xyz="0 1 6.12323e-17" />
        <parent link="root_link" />
        <child link="r_hip_1" />
        <dynamics damping="1" friction="0" />
        <limit effort="84" velocity="100" lower="-0.767945" upper="2.30383" />
    </joint>
    <joint name="r_hip_roll" type="revolute">
        <origin xyz="0 0 0" rpy="0 1.5708 -6.12323e-17" />
        <axis xyz="-1 0 6.12323e-17" />
        <parent link="r_hip_1" />
        <child link="r_hip_2" />
        <dynamics damping="1" friction="0" />
        <limit effort="84" velocity="100" lower="-2.07694" upper="0.296706" />
    </joint>
    <joint name="r_leg_ft_sensor" type="fixed">
        <origin xyz="0 0 0.0665" rpy="0 -0 0" />
        <axis xyz="0 0 0" />
        <parent link="r_hip_2" />
        <child link="r_hip_3" />
    </joint>
    <joint name="r_knee" type="revolute">
        <origin xyz="0 -0.2236 1.36916e-17" rpy="3.14159 -1.2326e-32 1.5708" />
        <axis xyz="0 1.22465e-16 -1" />
        <parent link="r_upper_leg" />
        <child link="r_lower_leg" />
        <dynamics damping="1" friction="0" />
        <limit effort="30" velocity="100" lower="-2.18166" upper="0.401426" />
    </joint>
    <joint name="r_shoulder_pitch" type="revolute">
        <origin xyz="0.00525 0.1433 0.11026" rpy="-1.309 -0 1.5708" />
        <axis xyz="0 1 5.55112e-17" />
        <parent link="chest" />
        <child link="r_shoulder_1" />
        <dynamics damping="1" friction="0" />
        <limit effort="84" velocity="100" lower="-1.65806" upper="0.0872665" />
    </joint>
    <joint name="r_shoulder_roll" type="revolute">
        <origin xyz="0 0 0" rpy="-1.5708 -0 -1.5708" />
        <axis xyz="0 -1 6.12323e-17" />
        <parent link="r_shoulder_1" />
        <child link="r_shoulder_2" />
        <dynamics damping="1" friction="0" />
        <limit effort="84" velocity="100" lower="0" upper="2.80649" />
    </joint>
    <joint name="r_shoulder_yaw" type="revolute">
        <origin xyz="-4.33681e-19 0 0" rpy="3.14159 -0 1.309" />
        <axis xyz="0 6.12323e-17 -1" />
        <parent link="r_shoulder_2" />
        <child link="r_shoulder_3" />
        <dynamics damping="1" friction="0" />
        <limit effort="34" velocity="100" lower="-0.645772" upper="1.74533" />
    </joint>
    <joint name="r_sole_fixed_joint" type="fixed">
        <origin xyz="-0.0353 -1.38778e-17 -0.001" rpy="3.14159 -0 0" />
        <axis xyz="0 0 0" />
        <parent link="r_foot" />
        <child link="r_sole" />
    </joint>
    <joint name="r_arm_ft_sensor" type="fixed">
        <origin xyz="0.015 -8.93429e-18 0.068" rpy="0 -0 0" />
        <axis xyz="0 0 0" />
        <parent link="r_shoulder_3" />
        <child link="r_upper_arm" />
    </joint>
    <joint name="r_upper_arm_dh_frame_fixed_joint" type="fixed">
        <origin xyz="0 0 0.08428" rpy="1.5708 -0 3.14159" />
        <axis xyz="0 0 0" />
        <parent link="r_upper_arm" />
        <child link="r_upper_arm_dh_frame" />
    </joint>
    <joint name="r_hip_yaw" type="revolute">
        <origin xyz="0 0 -0.0665" rpy="-1.5708 -6.16298e-33 6.12323e-17" />
        <axis xyz="0 -1 6.12323e-17" />
        <parent link="r_hip_3" />
        <child link="r_upper_leg" />
        <dynamics damping="1" friction="0" />
        <limit effort="40" velocity="100" lower="-1.37881" upper="1.37881" />
    </joint>
    <joint name="r_wrist_pitch" type="revolute">
        <origin xyz="0 -0.1373 -8.4072e-18" rpy="1.5708 -0 1.5708" />
        <axis xyz="0 1 6.12323e-17" />
        <parent link="r_forearm" />
        <child link="r_wrist_1" />
        <dynamics damping="1" friction="0" />
        <limit effort="0.65" velocity="100" lower="-1.13446" upper="0.174533" />
    </joint>
    <joint name="base_fixed_joint" type="fixed">
        <origin xyz="0 0 0" rpy="0 -0 0" />
        <axis xyz="0 0 0" />
        <parent link="base_link" />
        <child link="root_link" />
    </joint>
    <joint name="torso_joint" type="fixed">
        <origin xyz="0.00231 0.1933 -1.18362e-17" rpy="0 -0 0" />
        <axis xyz="0 0 0" />
        <parent link="chest" />
        <child link="torso" />
    </joint>
    <joint name="torso_pitch" type="revolute">
        <origin xyz="0 0 0" rpy="0 -1.5708 3.14159" />
        <axis xyz="0 1 6.12323e-17" />
        <parent link="root_link" />
        <child link="torso_1" />
        <dynamics damping="1" friction="0" />
        <limit effort="36" velocity="100" lower="-0.383972" upper="1.46608" />
    </joint>
    <joint name="torso_roll" type="revolute">
        <origin xyz="0.032 -2.67276e-51 0" rpy="1.5708 -0 -1.5708" />
        <axis xyz="0 1 6.12323e-17" />
        <parent link="torso_1" />
        <child link="torso_2" />
        <dynamics damping="1" friction="0" />
        <limit effort="80" velocity="100" lower="-0.680678" upper="0.680678" />
    </joint>
    <!-- <gazebo reference="l_arm_ft_sensor">
        <sensor name="left_arm_ft" type="force_torque">
            <force_torque>
                <frame>child</frame>
                <measure_direction>child_to_parent</measure_direction>
            </force_torque>
            <update_rate>100</update_rate>
            <always_on>1</always_on>
        </sensor>
    </gazebo>
    <gazebo reference="r_arm_ft_sensor">
        <sensor name="right_arm_ft" type="force_torque">
            <force_torque>
                <frame>child</frame>
                <measure_direction>child_to_parent</measure_direction>
            </force_torque>
            <update_rate>100</update_rate>
            <always_on>1</always_on>
        </sensor>
    </gazebo>
    <gazebo reference="l_leg_ft_sensor">
        <sensor name="left_leg_ft" type="force_torque">
            <force_torque>
                <frame>child</frame>
                <measure_direction>child_to_parent</measure_direction>
            </force_torque>
            <update_rate>100</update_rate>
            <always_on>1</always_on>
        </sensor>
    </gazebo>
    <gazebo reference="r_leg_ft_sensor">
        <sensor name="right_leg_ft" type="force_torque">
            <force_torque>
                <frame>child</frame>
                <measure_direction>child_to_parent</measure_direction>
            </force_torque>
            <update_rate>100</update_rate>
            <always_on>1</always_on>
        </sensor>
    </gazebo>
    <gazebo reference="l_foot_ft_sensor">
        <sensor name="left_foot_ft" type="force_torque">
            <force_torque>
                <frame>child</frame>
                <measure_direction>child_to_parent</measure_direction>
            </force_torque>
            <update_rate>100</update_rate>
            <always_on>1</always_on>
        </sensor>
    </gazebo>
    <gazebo reference="r_foot_ft_sensor">
        <sensor name="right_foot_ft" type="force_torque">
            <force_torque>
                <frame>child</frame>
                <measure_direction>child_to_parent</measure_direction>
            </force_torque>
            <update_rate>100</update_rate>
            <always_on>1</always_on>
        </sensor>
    </gazebo>
    <sensor type="force_torque" name="l_arm_ft_sensor">
        <parent joint="l_arm_ft_sensor" />
        <force_torque>
            <frame>child</frame>
            <measure_direction>child_to_parent</measure_direction>
        </force_torque>
    </sensor>
    <sensor type="force_torque" name="r_arm_ft_sensor">
        <parent joint="r_arm_ft_sensor" />
        <force_torque>
            <frame>child</frame>
            <measure_direction>child_to_parent</measure_direction>
        </force_torque>
    </sensor>
    <sensor type="force_torque" name="l_leg_ft_sensor">
        <parent joint="l_leg_ft_sensor" />
        <force_torque>
            <frame>child</frame>
            <measure_direction>child_to_parent</measure_direction>
        </force_torque>
    </sensor>
    <sensor type="force_torque" name="r_leg_ft_sensor">
        <parent joint="r_leg_ft_sensor" />
        <force_torque>
            <frame>child</frame>
            <measure_direction>child_to_parent</measure_direction>
        </force_torque>
    </sensor>
    <sensor type="force_torque" name="l_foot_ft_sensor">
        <parent joint="l_foot_ft_sensor" />
        <force_torque>
            <frame>child</frame>
            <measure_direction>child_to_parent</measure_direction>
        </force_torque>
    </sensor>
    <sensor type="force_torque" name="r_foot_ft_sensor">
        <parent joint="r_foot_ft_sensor" />
        <force_torque>
            <frame>child</frame>
            <measure_direction>child_to_parent</measure_direction>
        </force_torque>
    </sensor> -->
</robot>
